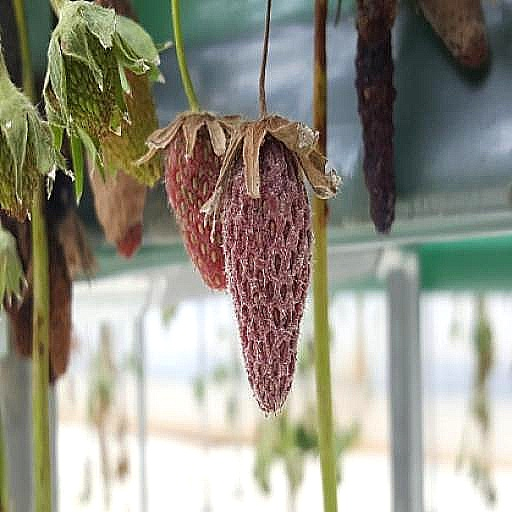Powdery Mildew Fruit: (208, 122, 314, 415), (145, 112, 238, 292)
